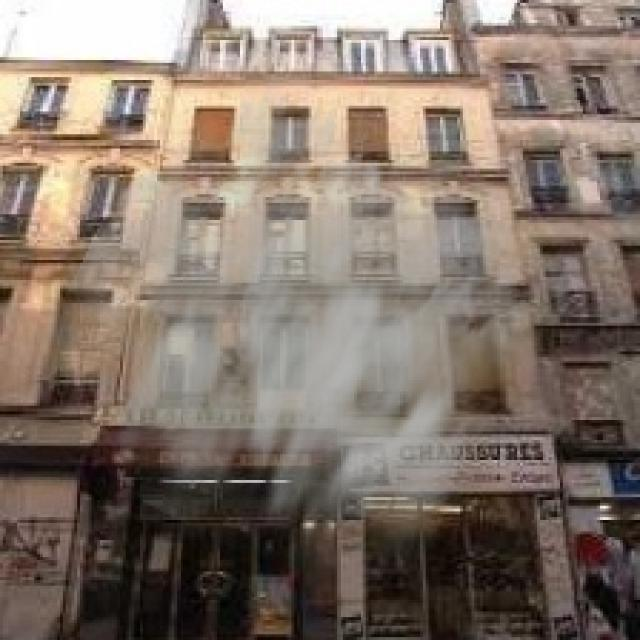smoke: (43, 69, 557, 634)
